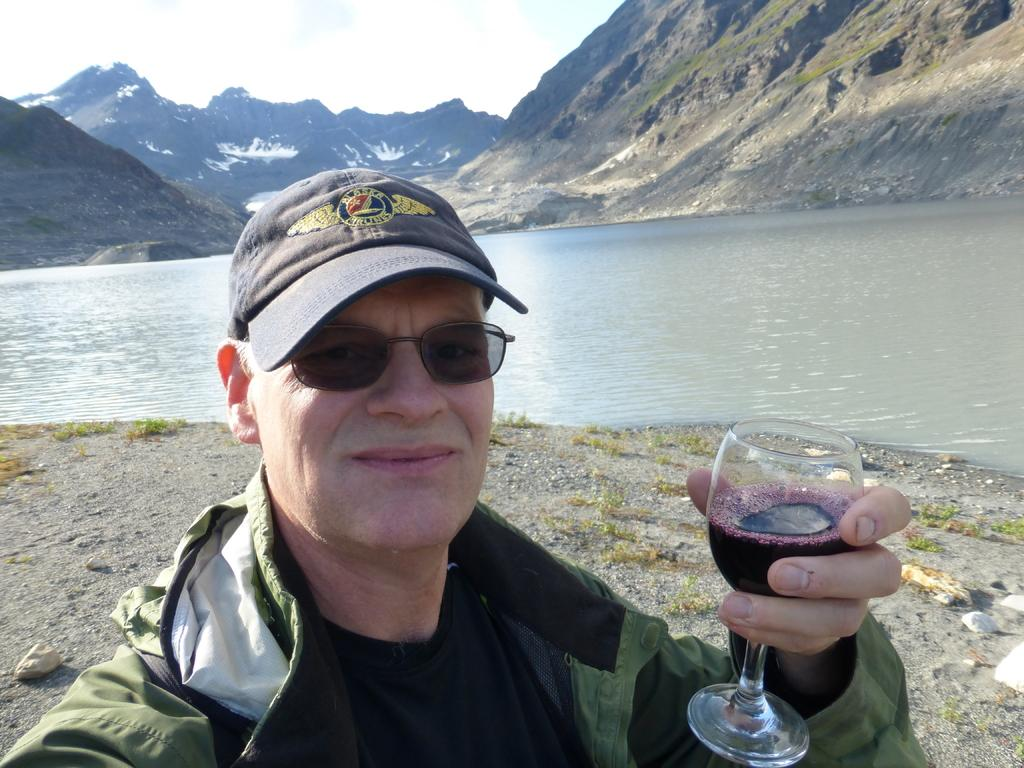Hat: (226, 167, 526, 372)
